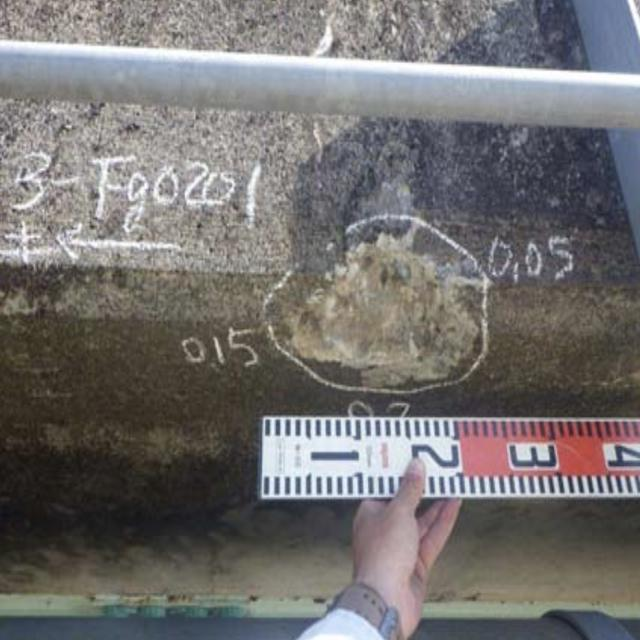spalling: (274, 206, 499, 397)
